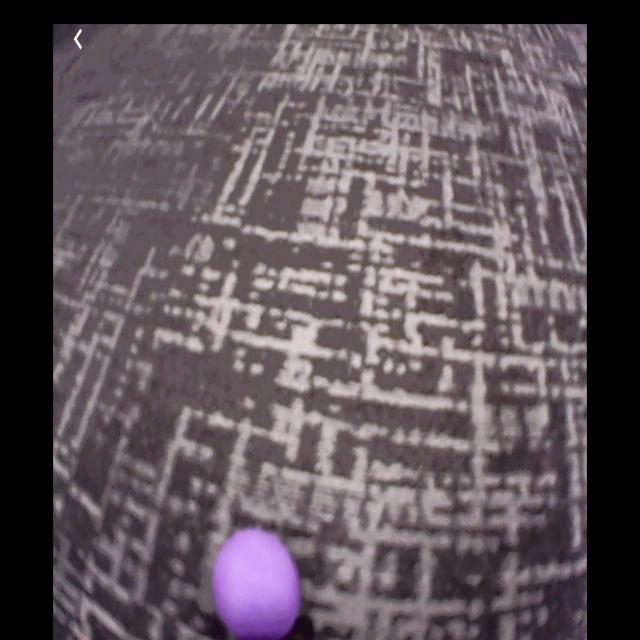ball: (214, 527, 302, 640)
